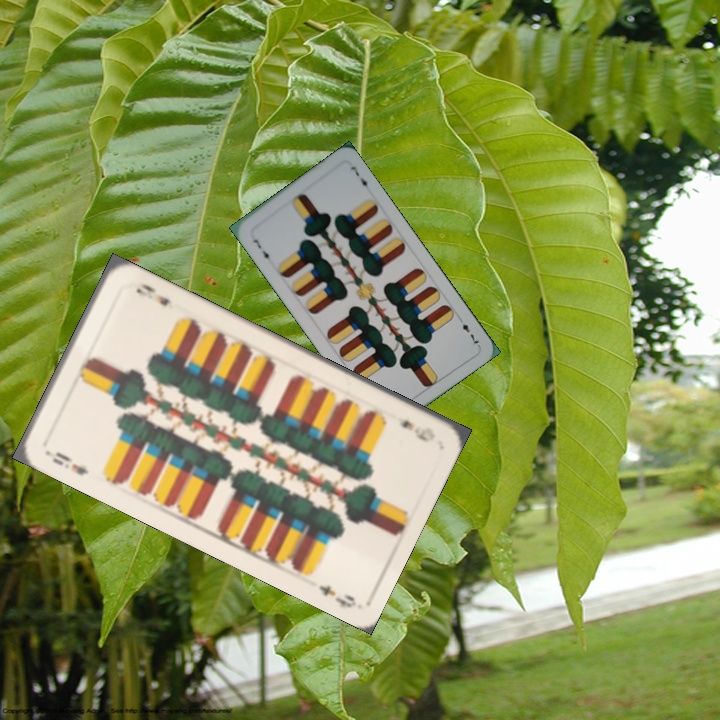E7: (454, 313, 482, 348), (249, 235, 273, 266)
E9: (42, 446, 91, 478), (395, 416, 438, 445)
